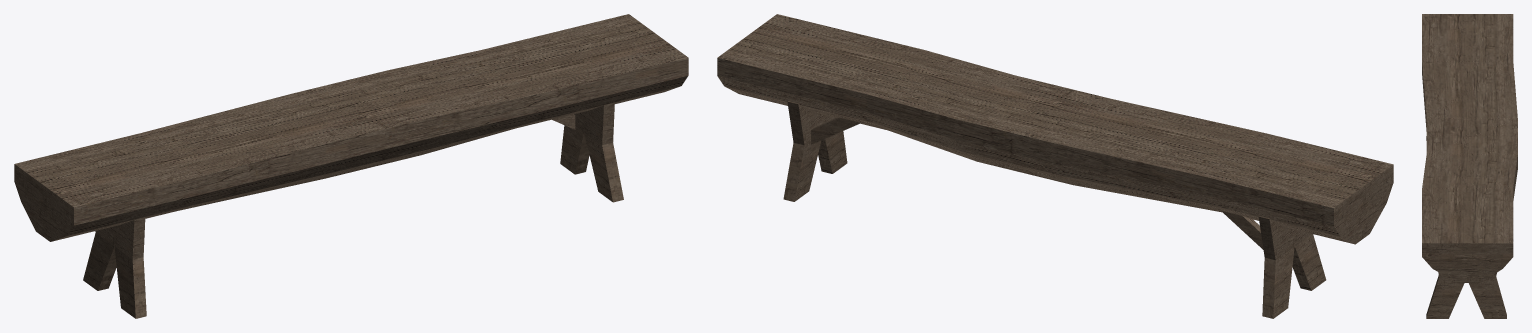
Rendered from f1_bench.dae.
3 views of the same model, side by side, from view 1: azimuth 30°, elevation 25°; view 2: azimuth 150°, elevation 25°; view 3: azimuth 270°, elevation 25° (orthographic). The views are drawn at different scales.
Visible parts, largest first — view 1: f1_bench_Layer1; view 2: f1_bench_Layer1; view 3: f1_bench_Layer1.
Part boxes in pixels (bbox=[...]): f1_bench_Layer1: bbox=[14, 14, 688, 318]; f1_bench_Layer1: bbox=[717, 14, 1393, 318]; f1_bench_Layer1: bbox=[1422, 14, 1517, 318].
Bounding box in the file's own units: 2.02 × 0.4061 × 0.357.
